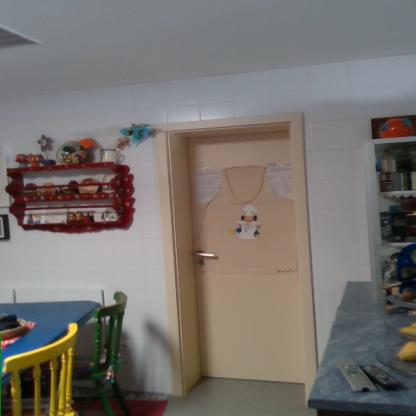closed: (157, 108, 330, 389)
open: (0, 283, 136, 415)
